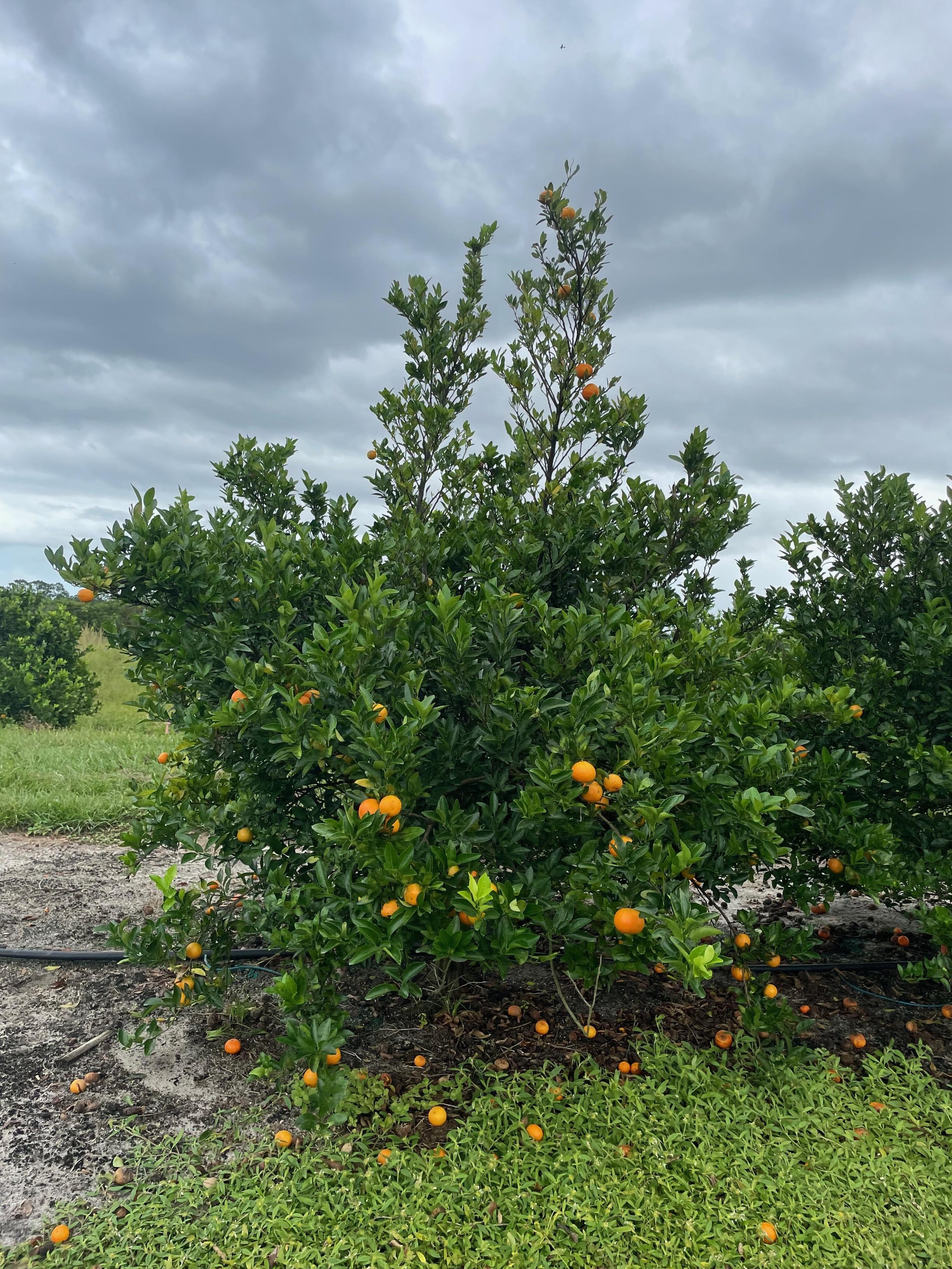fruit_on_ground: (612, 905, 647, 937), (605, 832, 638, 862), (455, 901, 487, 930), (377, 895, 408, 923), (401, 880, 429, 908), (356, 796, 383, 823), (365, 699, 392, 726), (375, 811, 403, 837), (578, 778, 606, 804), (569, 759, 597, 785), (377, 794, 403, 819), (228, 687, 253, 712), (601, 772, 625, 794), (553, 281, 576, 303), (587, 792, 610, 814), (506, 589, 528, 611), (678, 862, 701, 883), (730, 962, 753, 983), (573, 361, 596, 382), (322, 1046, 344, 1067), (301, 1067, 322, 1089), (235, 824, 256, 846), (580, 381, 602, 402), (183, 940, 204, 961), (171, 988, 193, 1008), (75, 585, 97, 605), (845, 701, 866, 721), (825, 855, 846, 875), (558, 203, 579, 223), (536, 187, 558, 206), (743, 848, 762, 868), (763, 951, 783, 970), (179, 973, 198, 993), (732, 932, 753, 950), (580, 309, 599, 328), (791, 742, 810, 761), (172, 974, 192, 991), (762, 982, 779, 1000), (156, 750, 172, 766), (365, 447, 380, 461)
fruit_on_tree: (755, 1220, 781, 1247), (49, 1222, 72, 1245), (425, 1145, 449, 1167), (427, 1104, 449, 1127), (713, 1028, 735, 1050), (112, 1165, 135, 1186), (221, 1035, 243, 1056), (273, 1127, 294, 1148), (546, 1084, 568, 1104), (524, 1122, 545, 1142), (614, 1140, 635, 1159), (376, 1147, 395, 1167), (81, 1070, 102, 1088), (847, 1031, 868, 1049), (491, 1055, 511, 1073), (851, 1125, 872, 1142), (534, 1017, 552, 1036), (68, 1077, 88, 1094), (837, 1051, 856, 1068), (650, 959, 669, 976), (825, 1067, 843, 1084), (411, 1052, 429, 1069), (581, 1022, 599, 1039), (505, 1002, 523, 1019), (628, 1059, 644, 1076), (894, 933, 912, 948), (757, 1028, 774, 1043), (842, 994, 859, 1009), (697, 932, 715, 946), (845, 999, 861, 1014), (231, 893, 246, 909), (378, 1070, 393, 1086), (904, 1018, 920, 1033), (937, 941, 951, 958), (616, 1059, 631, 1074), (939, 1002, 952, 1019), (354, 1070, 369, 1084), (817, 925, 832, 939), (203, 904, 217, 917), (206, 878, 220, 891), (816, 901, 830, 914), (890, 924, 905, 936), (798, 1002, 813, 1014), (847, 885, 861, 897), (809, 904, 823, 916)
